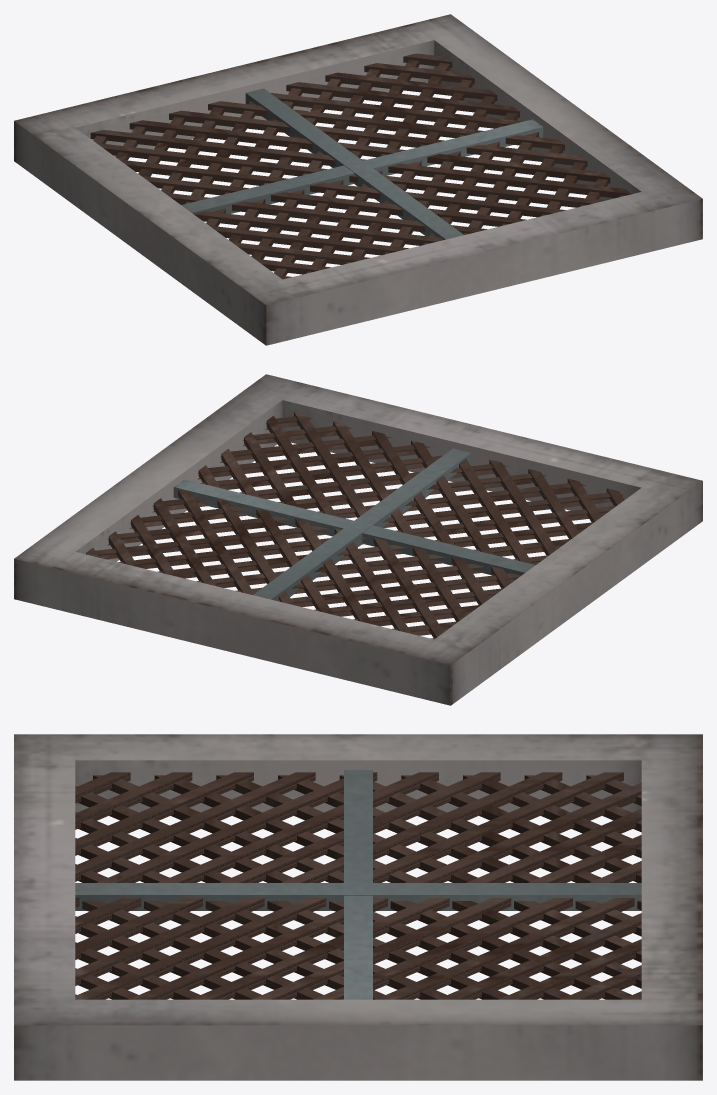
Rendered from Floor_Decoration_1.fbx.
3 views of the same model, one above another, from view 1: azimuth 30°, elevation 25°; view 2: azimuth 150°, elevation 25°; view 3: azimuth 270°, elevation 25° (orthographic). The views are drawn at different scales.
Parts seen in each view (by area): view 1: Cube.141; view 2: Cube.141; view 3: Cube.141.
Boxes of the visible parts, x1,y1,x2,y2 form: Cube.141: (14, 14, 702, 345); Cube.141: (14, 374, 702, 705); Cube.141: (14, 734, 702, 1080).
Size of the model in its own units: 1 by 0.0884 by 1.
